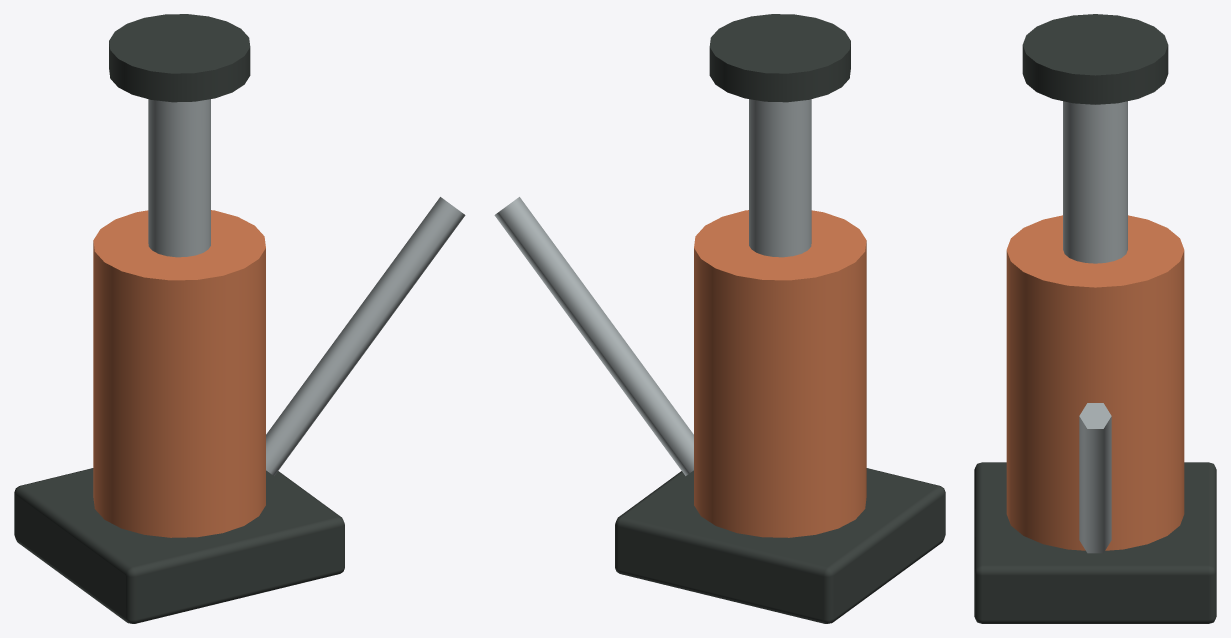
File: survivor-vehicle-maintenance-bottle-jack-bfebe4a9__26674.glb
3 renders of one model, left to right at view 1: azimuth 30°, elevation 25°; view 2: azimuth 150°, elevation 25°; view 3: azimuth 270°, elevation 25°, orthographic. The views are drawn at different scales.
Parts seen in each view (by area): view 1: bottle-jack; view 2: bottle-jack; view 3: bottle-jack.
Part boxes in pixels (left/top/right/bottom): bottle-jack: left=14, top=14, right=465, bottom=623; bottle-jack: left=494, top=14, right=945, bottom=623; bottle-jack: left=974, top=14, right=1216, bottom=623.
Size of the model in its own units: 0.2863 by 0.36 by 0.15.
